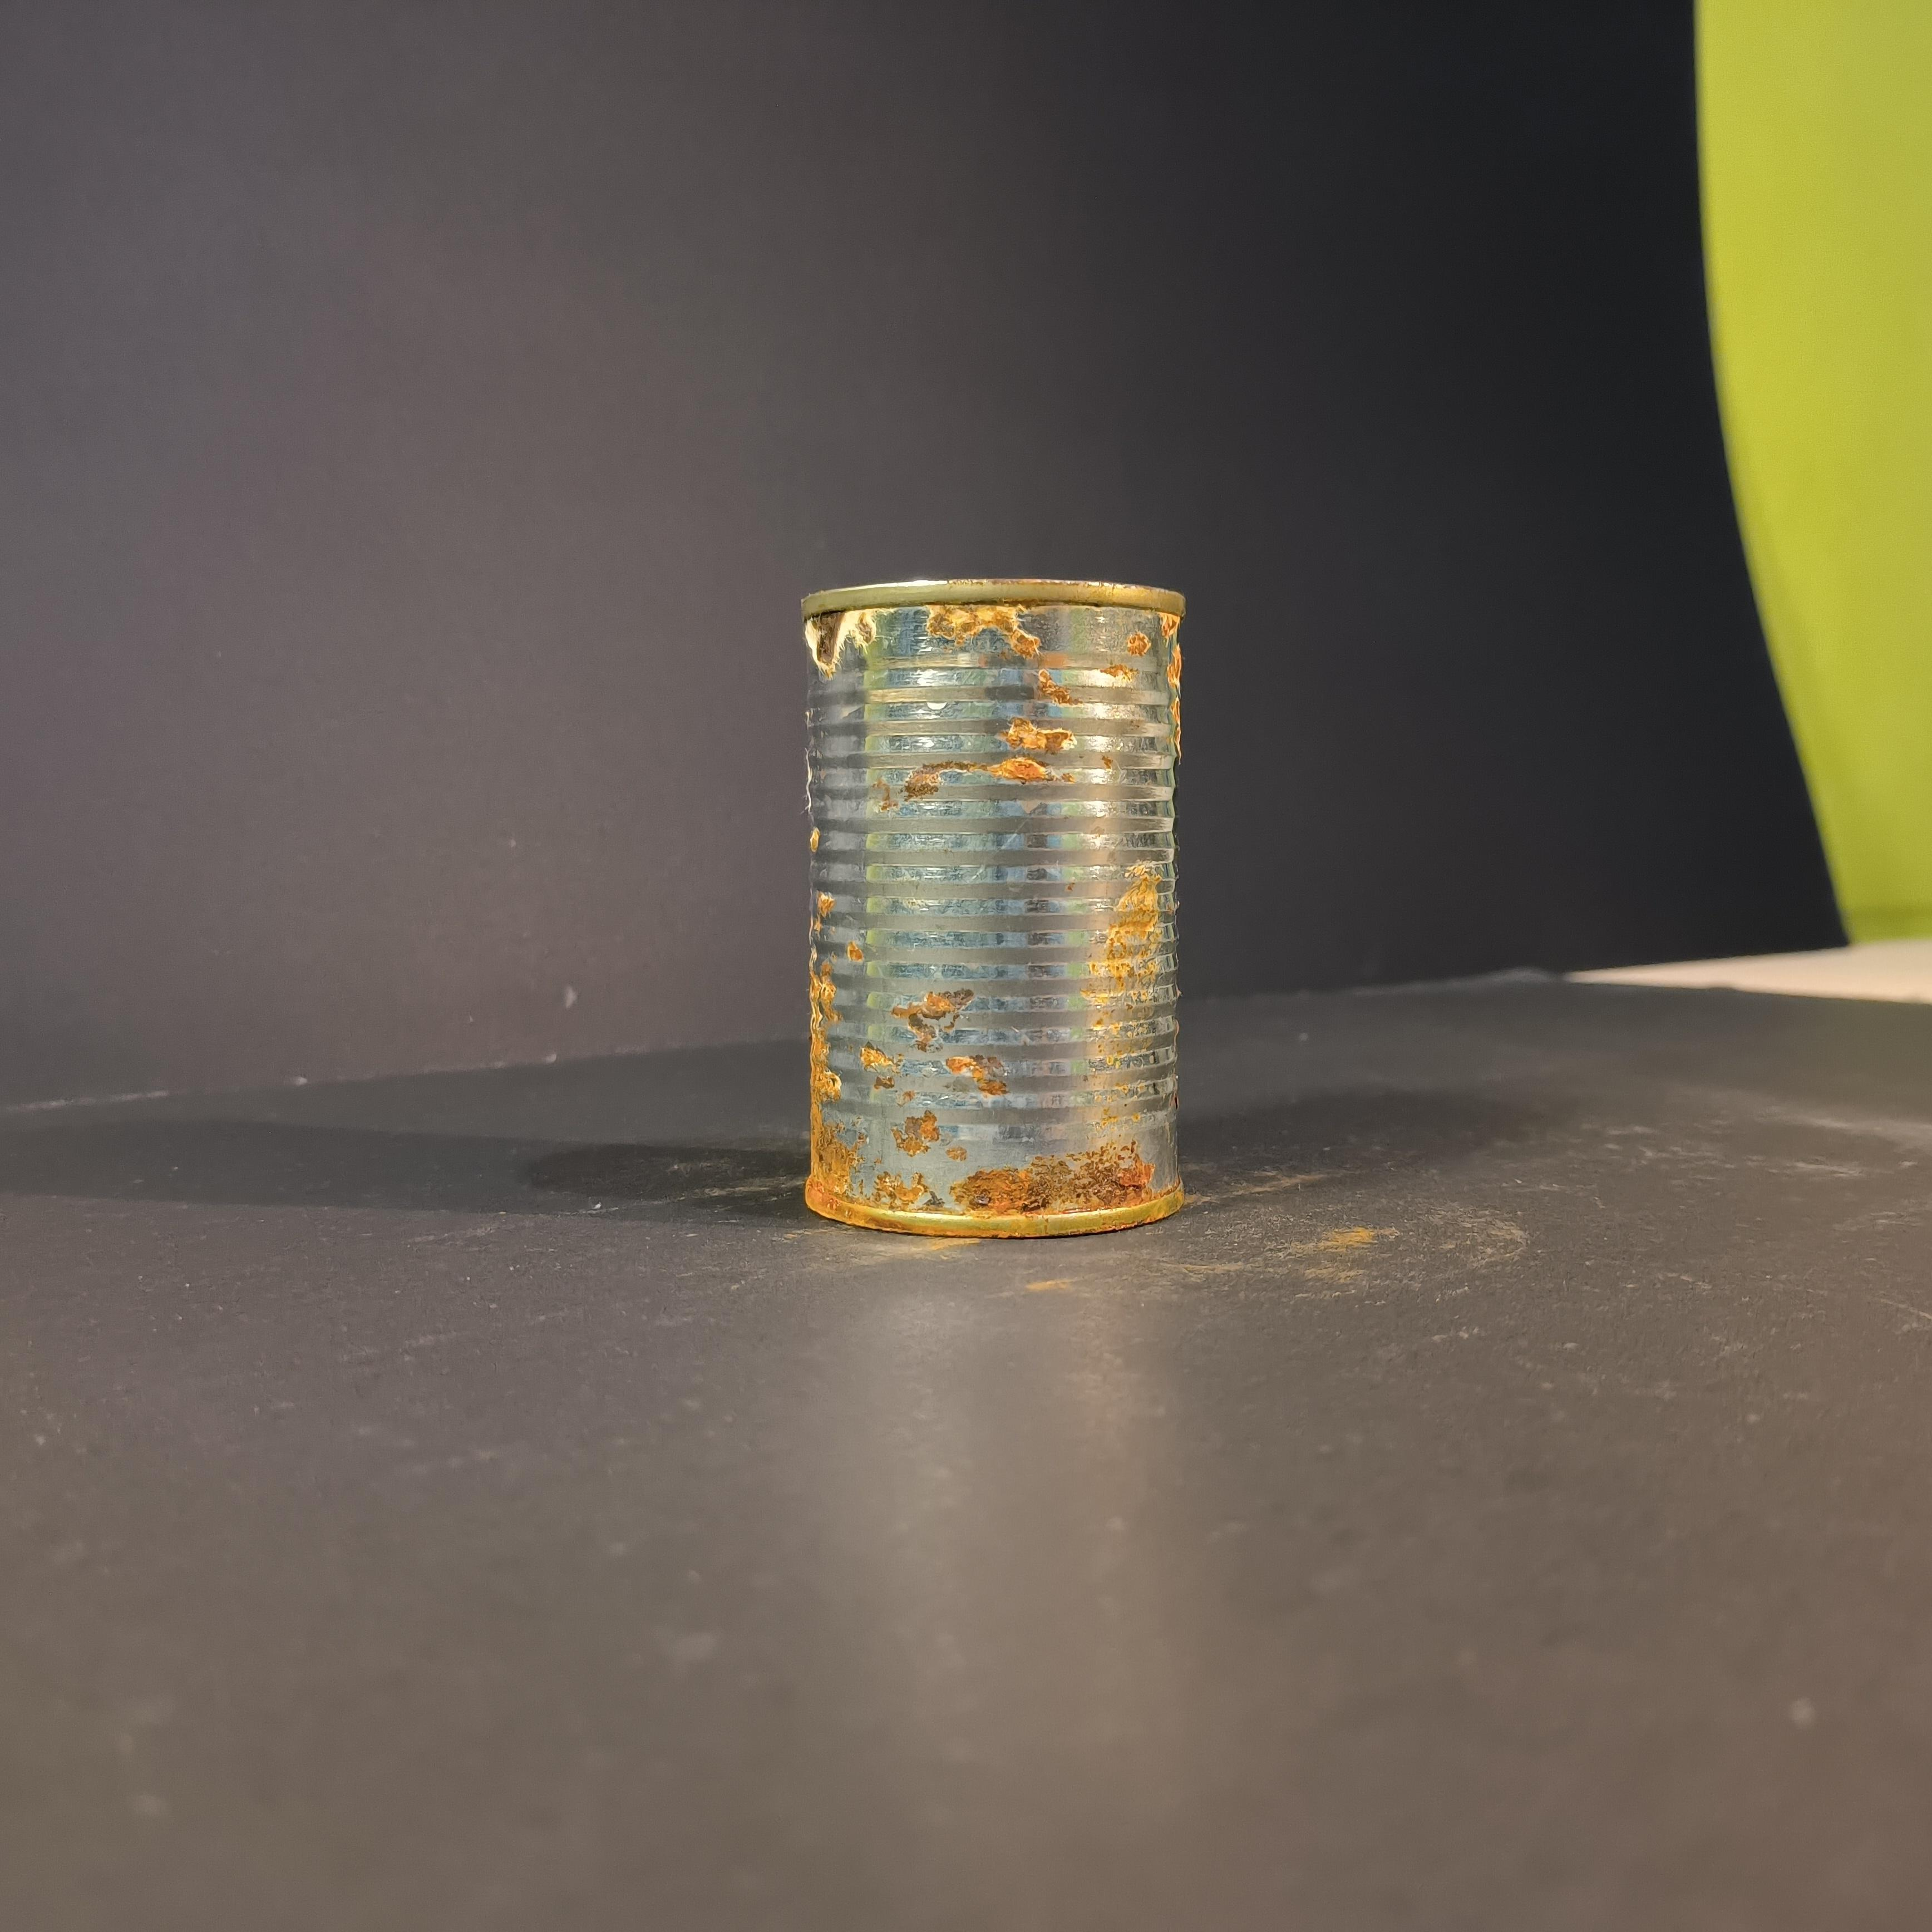Rusted: (796, 579, 1210, 1233)
